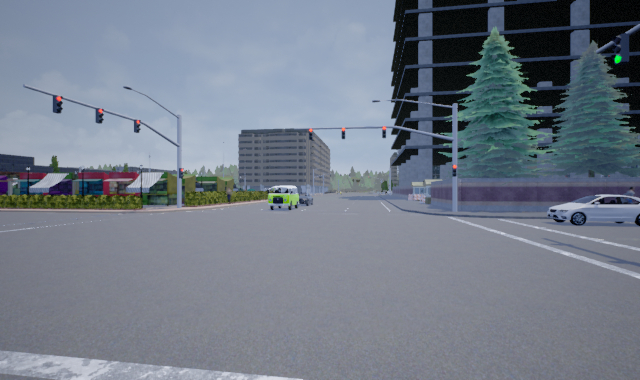pedestrian: (621, 186, 638, 200), (224, 186, 233, 204)
traffic_light: (611, 31, 631, 67), (51, 94, 65, 113), (133, 117, 142, 133), (96, 106, 103, 123), (308, 128, 315, 143), (340, 126, 346, 139), (452, 163, 458, 176), (381, 124, 386, 139)
vehicle: (548, 194, 640, 226), (266, 185, 301, 209), (294, 192, 314, 205)
